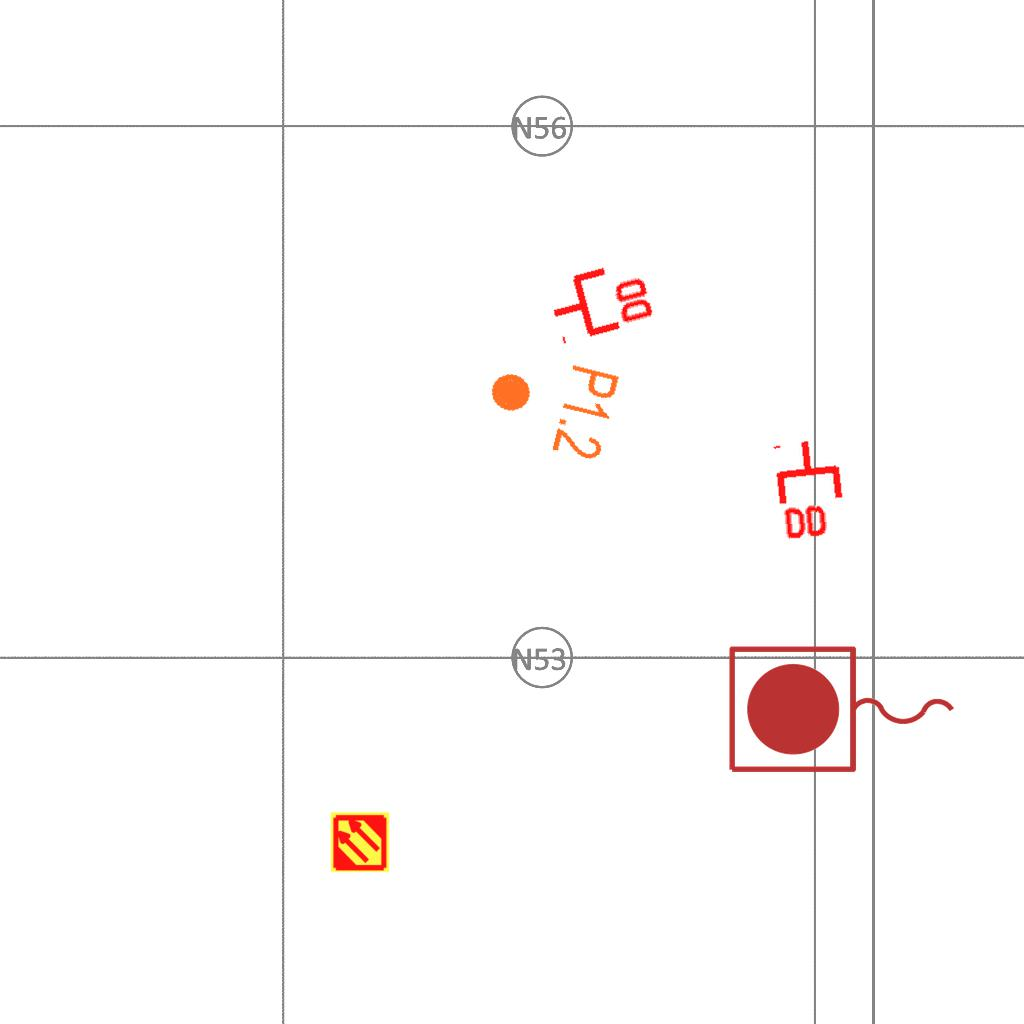ASR_Ansaugrauchmelder: (329, 811, 391, 873)
Datenanschluss_zweifach: (541, 252, 660, 347), (771, 434, 852, 545)
Downlight_LED_Einbauleuchten_Flur: (477, 343, 624, 465)
Zugtaster: (721, 639, 965, 783)
